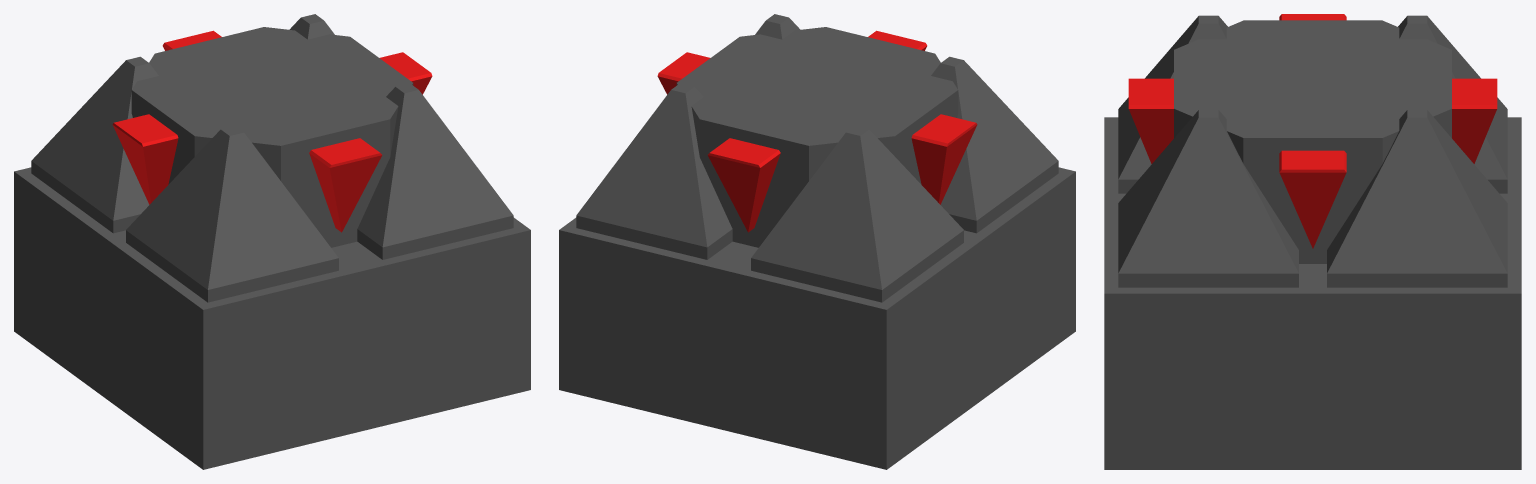
The model's file is turretBase.fbx.
3 views of the same model, side by side, from view 1: azimuth 30°, elevation 25°; view 2: azimuth 150°, elevation 25°; view 3: azimuth 270°, elevation 25° (orthographic). The views are drawn at different scales.
Parts seen in each view (by area): view 1: block_default_13, roof_point_rounded_7, roof_point_rounded_6, roof_point_rounded_4, block_corner_small_2, block_corner_small_1, block_corner_small_3, block_corner_small_0, roof_end_10, roof_end_11, roof_end_9, roof_point_rounded_5; view 2: block_default_13, roof_point_rounded_4, roof_point_rounded_5, roof_point_rounded_7, block_corner_small_3, block_corner_small_0, block_corner_small_2, block_corner_small_1, roof_end_8, roof_end_11, roof_end_9, roof_point_rounded_6; view 3: block_default_13, roof_point_rounded_5, roof_point_rounded_6, block_corner_small_0, block_corner_small_1, block_corner_small_2, block_corner_small_3, roof_end_9, roof_point_rounded_4, roof_point_rounded_7, roof_end_8, roof_end_10 (+1 smaller).
Part boxes in pixels (bbox=[...]): block_default_13: bbox=[14, 167, 530, 469]; roof_point_rounded_7: bbox=[126, 126, 338, 302]; roof_point_rounded_6: bbox=[357, 83, 513, 259]; roof_point_rounded_4: bbox=[31, 56, 158, 233]; block_corner_small_2: bbox=[163, 86, 335, 247]; block_corner_small_1: bbox=[273, 60, 413, 246]; block_corner_small_3: bbox=[131, 40, 271, 123]; block_corner_small_0: bbox=[210, 27, 381, 86]; roof_end_10: bbox=[309, 138, 382, 232]; roof_end_11: bbox=[112, 114, 178, 204]; roof_end_9: bbox=[380, 52, 432, 94]; roof_point_rounded_5: bbox=[289, 14, 334, 39]; block_default_13: bbox=[559, 167, 1075, 469]; roof_point_rounded_4: bbox=[751, 126, 963, 302]; roof_point_rounded_5: bbox=[576, 83, 732, 259]; roof_point_rounded_7: bbox=[931, 56, 1058, 233]; block_corner_small_3: bbox=[754, 86, 926, 247]; block_corner_small_0: bbox=[676, 60, 816, 246]; block_corner_small_2: bbox=[818, 40, 958, 123]; block_corner_small_1: bbox=[708, 27, 879, 86]; roof_end_8: bbox=[707, 138, 780, 232]; roof_end_11: bbox=[911, 114, 977, 204]; roof_end_9: bbox=[657, 52, 709, 94]; roof_point_rounded_6: bbox=[755, 14, 800, 39]; block_default_13: bbox=[1104, 117, 1521, 469]; roof_point_rounded_5: bbox=[1327, 109, 1507, 287]; roof_point_rounded_6: bbox=[1118, 109, 1298, 287]; block_corner_small_0: bbox=[1313, 79, 1451, 263]; block_corner_small_1: bbox=[1174, 79, 1312, 263]; block_corner_small_2: bbox=[1174, 20, 1312, 79]; block_corner_small_3: bbox=[1313, 20, 1451, 79]; roof_end_9: bbox=[1279, 150, 1346, 248]; roof_point_rounded_4: bbox=[1398, 15, 1507, 193]; roof_point_rounded_7: bbox=[1118, 15, 1227, 193]; roof_end_8: bbox=[1452, 78, 1497, 163]; roof_end_10: bbox=[1128, 78, 1173, 163].
Size of the model in its own units: 30 by 25 by 30.
